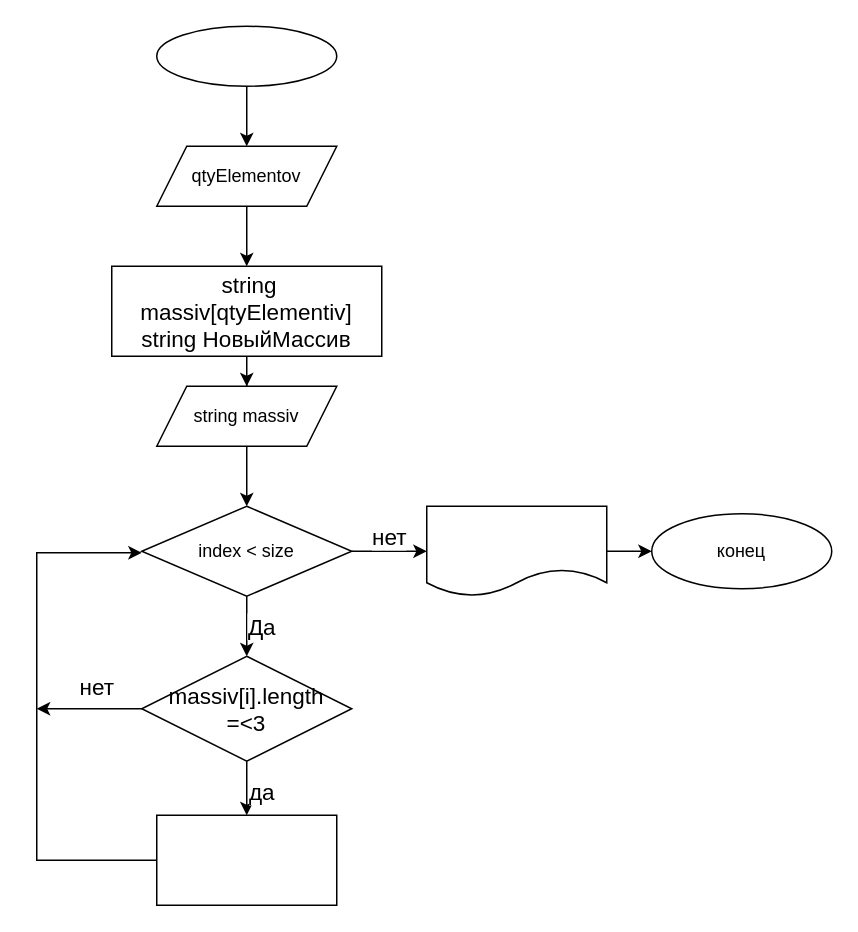
Some shapes in this 858 by 932 pixel diagram are drawn without their labels. Each missing label, with the centre of its shape:
Add in НовыйМассив массив[i]: pixel 246 859
Print НовыйМассив: pixel 516 550
Начало: pixel 246 55
